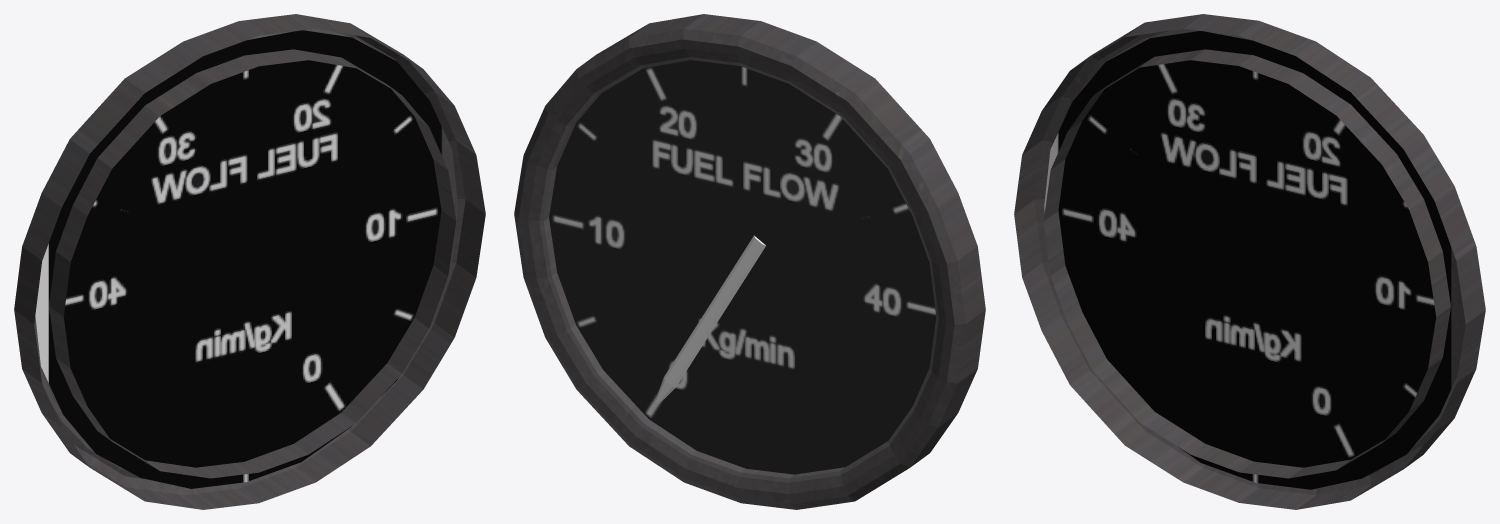
File: fflow.obj
3 views of the same model, side by side, from view 1: azimuth 30°, elevation 25°; view 2: azimuth 150°, elevation 25°; view 3: azimuth 330°, elevation 25° (orthographic).
Parts seen in each view (by area): view 1: face, fond; view 2: face, vitre, fond, needle; view 3: face, fond.
Part boxes in pixels (<box>): face: <box>35,30,458,488</box>; fond: <box>14,14,485,509</box>; face: <box>549,60,936,474</box>; vitre: <box>540,57,938,481</box>; fond: <box>514,14,985,509</box>; needle: <box>651,235,765,411</box>; face: <box>1044,31,1465,489</box>; fond: <box>1014,14,1485,509</box>.
Size of the model in its own units: 0.0521 by 0.0515 by 0.0047.
Materials: 2 (1 with a texture image).
